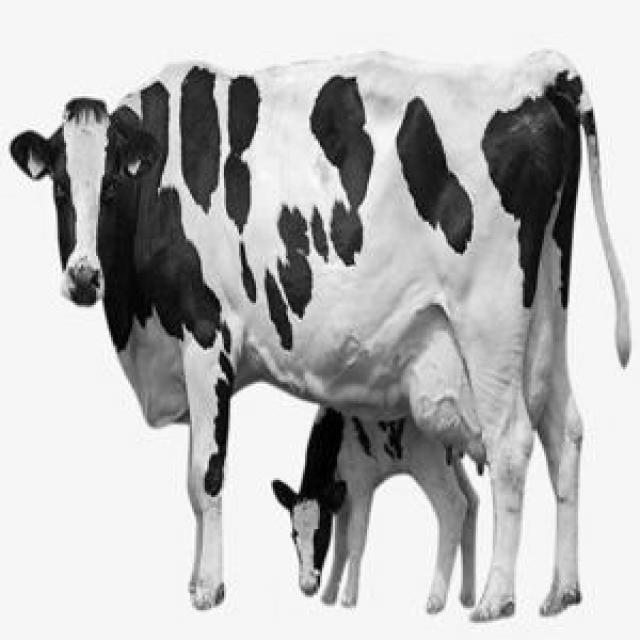cow: (11, 54, 630, 619), (272, 408, 478, 612)
